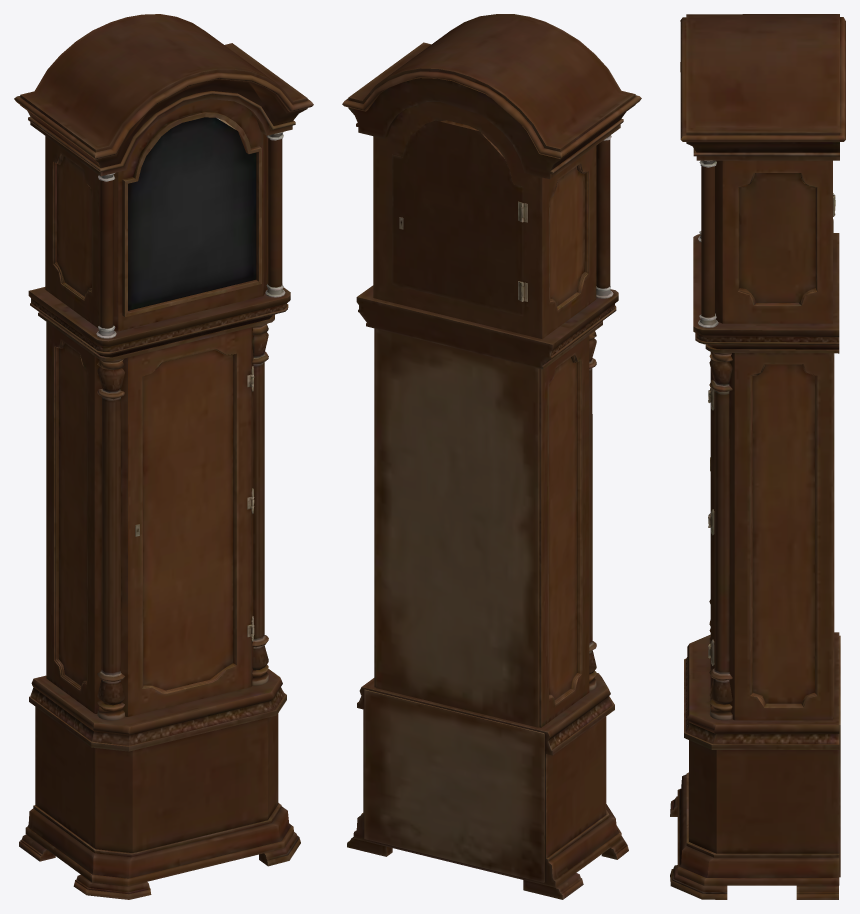
File: vintage_grandfather_clock_01.glb
The picture shows the model from 3 angles, left to right: view 1: azimuth 30°, elevation 25°; view 2: azimuth 150°, elevation 25°; view 3: azimuth 270°, elevation 25°; orthographic projection. The views are drawn at different scales.
Visible parts, largest first — view 1: vintage_grandfather_clock_01_Body; view 2: vintage_grandfather_clock_01_Body; view 3: vintage_grandfather_clock_01_Body.
Part boxes in pixels (bbox=[...]): vintage_grandfather_clock_01_Body: bbox=[14, 14, 313, 899]; vintage_grandfather_clock_01_Body: bbox=[342, 14, 641, 899]; vintage_grandfather_clock_01_Body: bbox=[670, 14, 845, 899].
Bounding box in the file's own units: 0.6255 × 2.19 × 0.4265.
2 materials, 2 textured.
